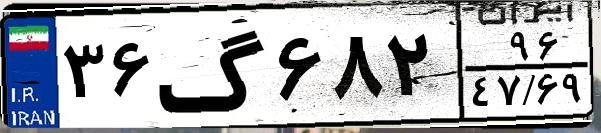2: (385, 28, 445, 110)
3: (57, 26, 110, 100)
4: (470, 70, 495, 125)
6: (270, 28, 330, 110), (110, 28, 156, 98), (537, 27, 568, 80), (535, 70, 560, 125)
7: (495, 70, 520, 125)
8: (330, 28, 385, 110)
9: (560, 70, 590, 125), (508, 27, 537, 80)
گ: (156, 12, 270, 120)
